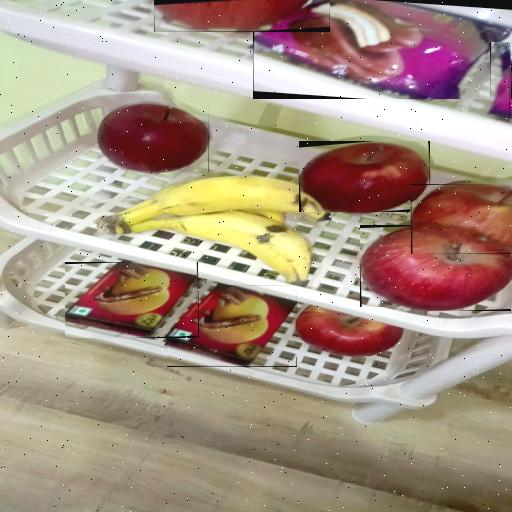Apple: (360, 225, 511, 311), (299, 141, 430, 212), (97, 102, 209, 172), (411, 184, 511, 254), (154, 0, 330, 32), (296, 307, 404, 357)
Choco Fills: (167, 285, 297, 367), (66, 262, 200, 338)
Choco Pie: (253, 0, 512, 99), (490, 42, 510, 118)
